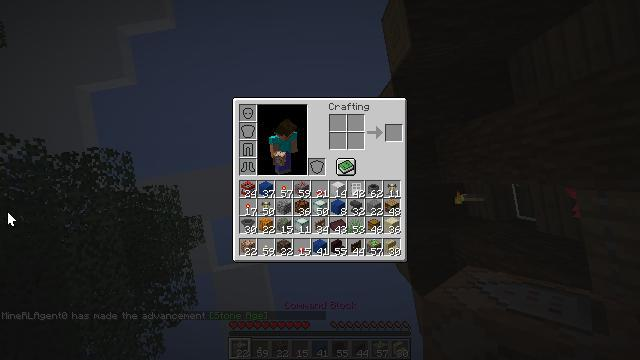cursor: (7, 211, 17, 227)
